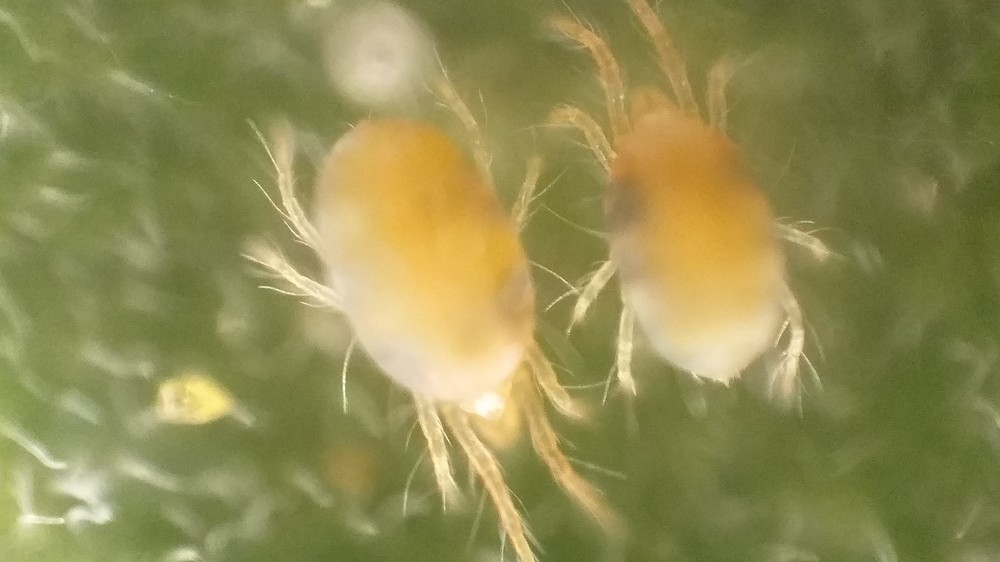Aracnido Rojo: (245, 70, 615, 556), (552, 9, 869, 446)
